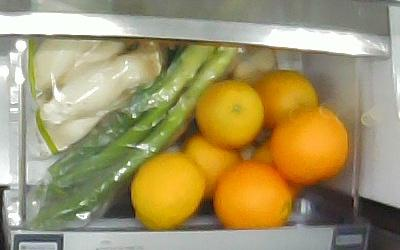orange: (271, 105, 348, 185), (129, 153, 205, 227), (212, 161, 292, 227), (195, 79, 265, 149), (254, 71, 318, 129)
